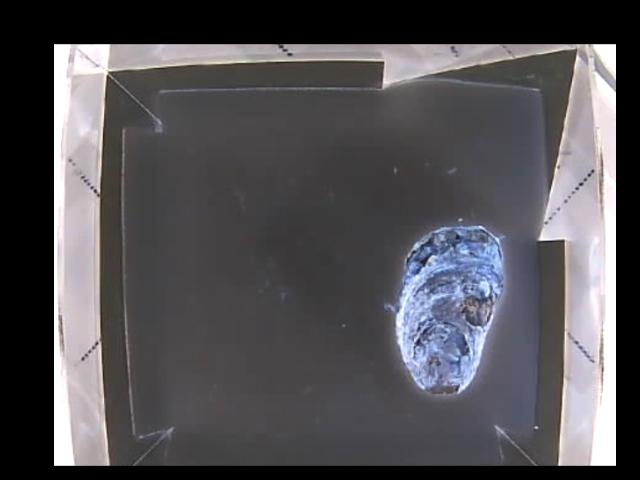Shell: (396, 226, 506, 392)
